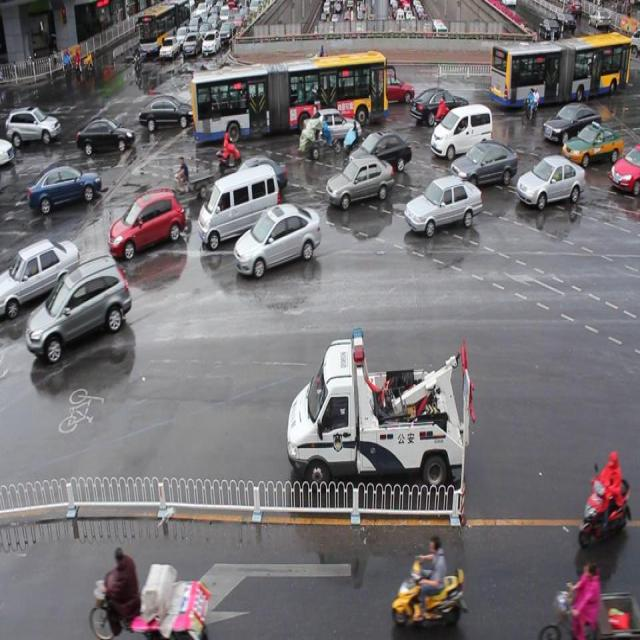bus: (287, 325, 472, 492)
car: (26, 258, 132, 361), (234, 203, 322, 276), (0, 238, 80, 316), (110, 191, 186, 257), (404, 176, 482, 234), (28, 165, 102, 212), (429, 105, 492, 159), (516, 156, 584, 206), (326, 157, 394, 206), (451, 143, 516, 188), (348, 131, 412, 171), (561, 124, 622, 165), (542, 105, 602, 145), (224, 158, 287, 193), (411, 87, 469, 123), (76, 117, 135, 152), (138, 96, 192, 132), (310, 108, 360, 146), (364, 69, 413, 104), (609, 145, 640, 192)
truck: (198, 168, 280, 247)
van: (193, 54, 387, 144), (491, 32, 628, 108)
